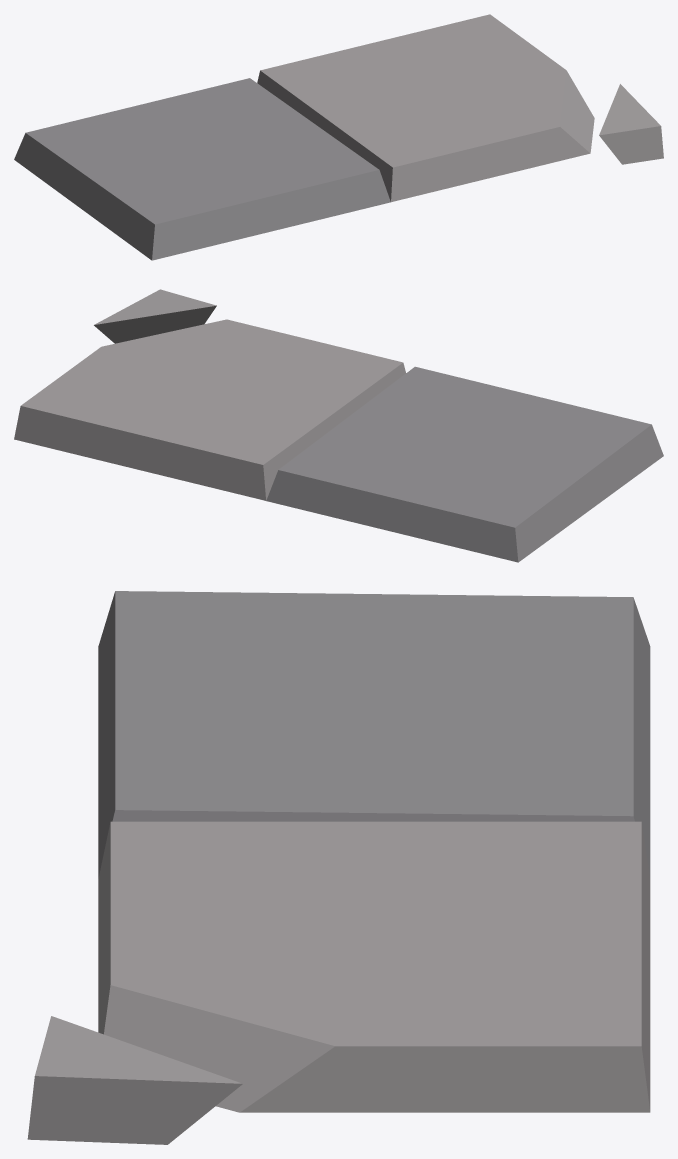
Rendered from Rock_Tiles_m_10.fbx.
The picture shows the model from 3 angles, top to bottom: view 1: azimuth 30°, elevation 25°; view 2: azimuth 150°, elevation 25°; view 3: azimuth 270°, elevation 25°; orthographic projection. The views are drawn at different scales.
Visible parts, largest first — view 1: Rock_Tiles_m_10; view 2: Rock_Tiles_m_10; view 3: Rock_Tiles_m_10.
Part boxes in pixels (x1,y1,x2,y2): Rock_Tiles_m_10: (14, 14, 663, 260); Rock_Tiles_m_10: (14, 289, 663, 562); Rock_Tiles_m_10: (27, 591, 650, 1144).
Size of the model in its own units: 84.42 by 5.88 by 45.13.
